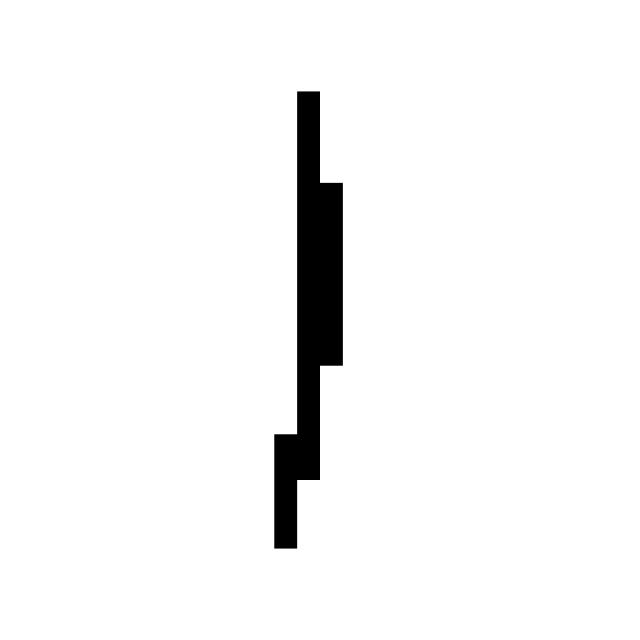1 -one-: (242, 73, 377, 569)
